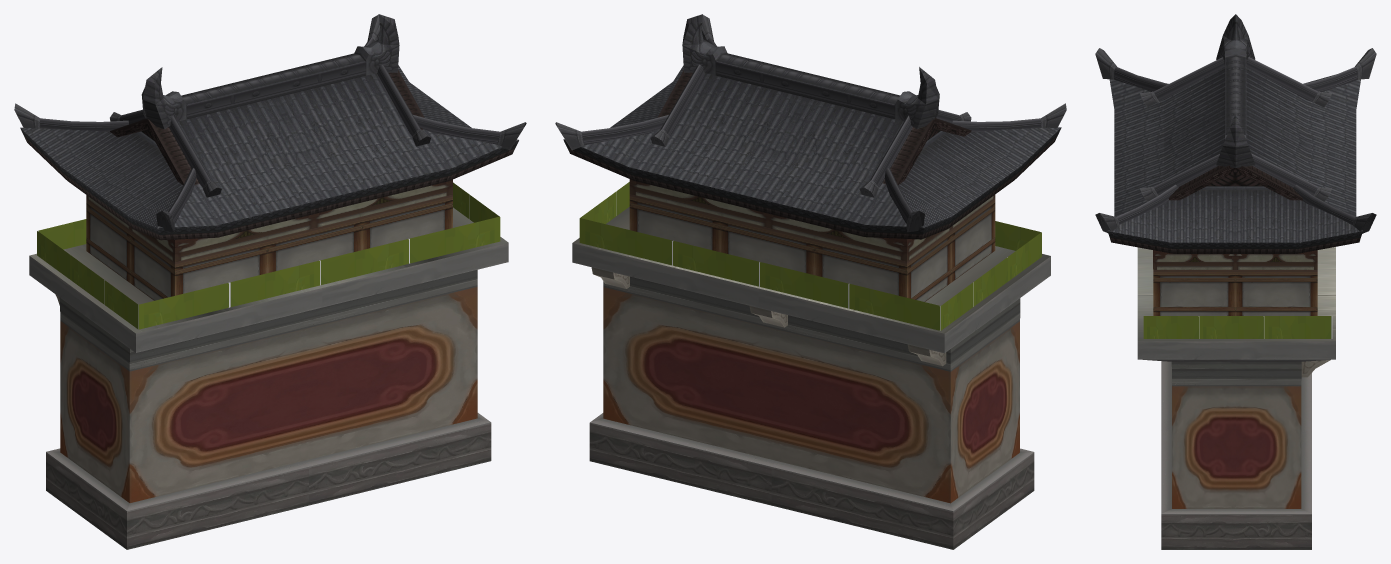
Rendered from City_bujian_24.fbx.
3 renders of one model, left to right at view 1: azimuth 30°, elevation 25°; view 2: azimuth 150°, elevation 25°; view 3: azimuth 270°, elevation 25°, orthographic. The views are drawn at different scales.
Parts seen in each view (by area): view 1: City_1_2017_3_7_2:pasted__ca_build039_1, City_1_2017_3_7_2:City_1_2017_3_7_2:City_1_2017_3_7_2:City_1; view 2: City_1_2017_3_7_2:pasted__ca_build039_1, City_1_2017_3_7_2:City_1_2017_3_7_2:City_1_2017_3_7_2:City_1; view 3: City_1_2017_3_7_2:pasted__ca_build039_1, City_1_2017_3_7_2:City_1_2017_3_7_2:City_1_2017_3_7_2:City_1.
Boxes of the visible parts, x1,y1,x2,y2 form: City_1_2017_3_7_2:pasted__ca_build039_1: (14, 14, 526, 549); City_1_2017_3_7_2:City_1_2017_3_7_2:City_1_2017_3_7_2:City_1: (37, 182, 500, 329); City_1_2017_3_7_2:pasted__ca_build039_1: (555, 14, 1066, 549); City_1_2017_3_7_2:City_1_2017_3_7_2:City_1_2017_3_7_2:City_1: (579, 182, 1041, 330); City_1_2017_3_7_2:pasted__ca_build039_1: (1095, 14, 1376, 549); City_1_2017_3_7_2:City_1_2017_3_7_2:City_1_2017_3_7_2:City_1: (1143, 316, 1332, 338).
Size of the model in its own units: 10.91 by 12.17 by 7.67.
